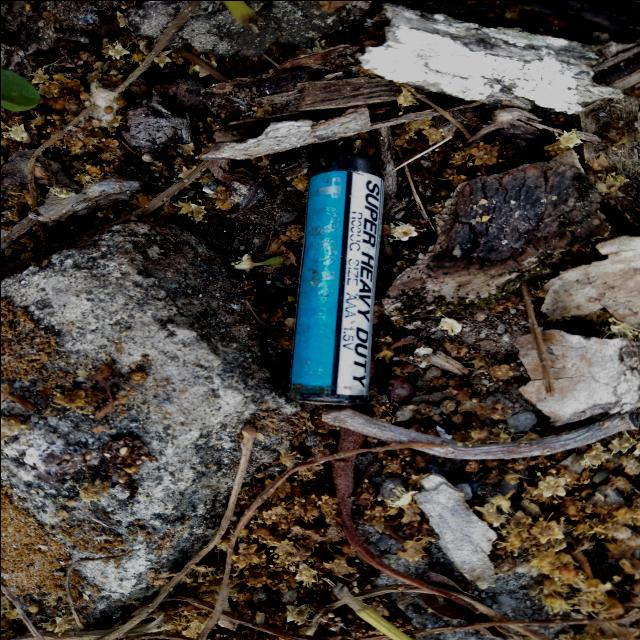Battery: (288, 152, 384, 404)
